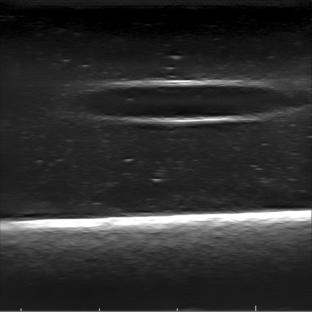vessel: (78, 78, 295, 125)
